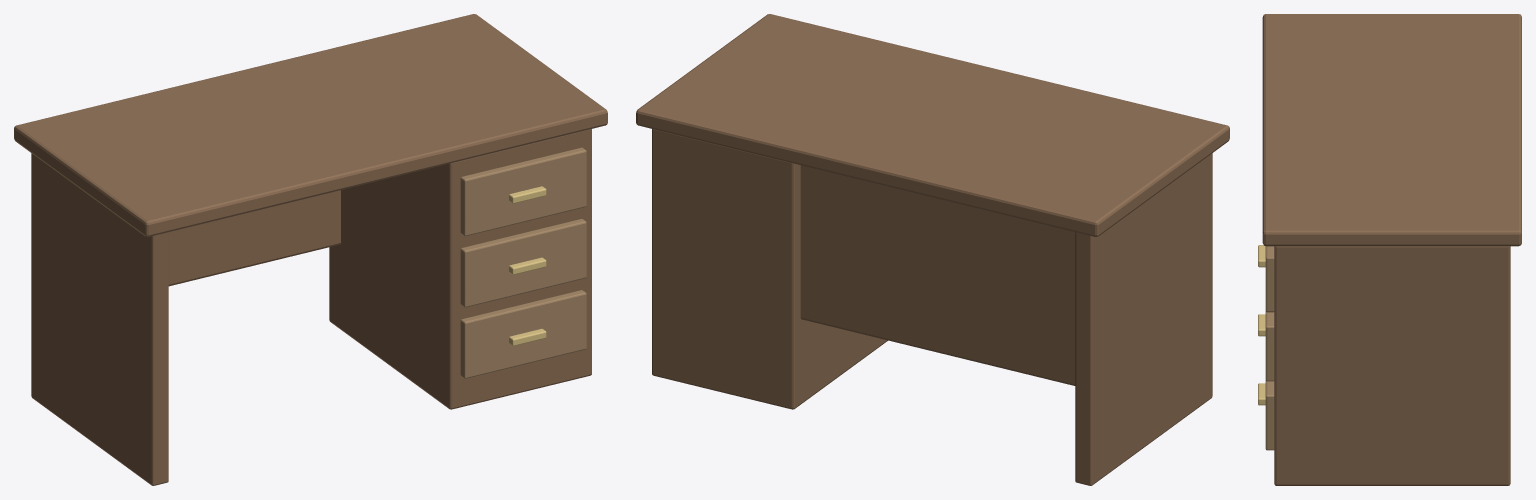
Rendered from desk_study.glb.
3 renders of one model, left to right at view 1: azimuth 30°, elevation 25°; view 2: azimuth 150°, elevation 25°; view 3: azimuth 270°, elevation 25°, orthographic. The views are drawn at different scales.
Visible parts, largest first — view 1: DeskTop, PedestalR, LegPanelL, ModestyBack, Drawer_0.18, Drawer_0.58, Drawer_0.38; view 2: DeskTop, ModestyBack, PedestalR, LegPanelL; view 3: DeskTop, PedestalR, Drawer_0.18, Drawer_0.38, Drawer_0.58.
Boxes of the visible parts, <box> form: DeskTop: <box>14,14,607,236</box>; PedestalR: <box>329,129,591,409</box>; LegPanelL: <box>31,153,168,485</box>; ModestyBack: <box>168,190,340,286</box>; Drawer_0.18: <box>460,290,586,378</box>; Drawer_0.58: <box>460,147,586,236</box>; Drawer_0.38: <box>460,219,586,307</box>; DeskTop: <box>636,14,1229,236</box>; ModestyBack: <box>800,165,1075,385</box>; PedestalR: <box>652,129,887,409</box>; LegPanelL: <box>1075,153,1212,485</box>; DeskTop: <box>1262,14,1521,246</box>; PedestalR: <box>1274,246,1510,485</box>; Drawer_0.18: <box>1265,380,1274,450</box>; Drawer_0.38: <box>1265,311,1274,381</box>; Drawer_0.58: <box>1265,246,1274,312</box>.
Bounding box in the file's own units: 1.36 × 0.7625 × 0.6925.
